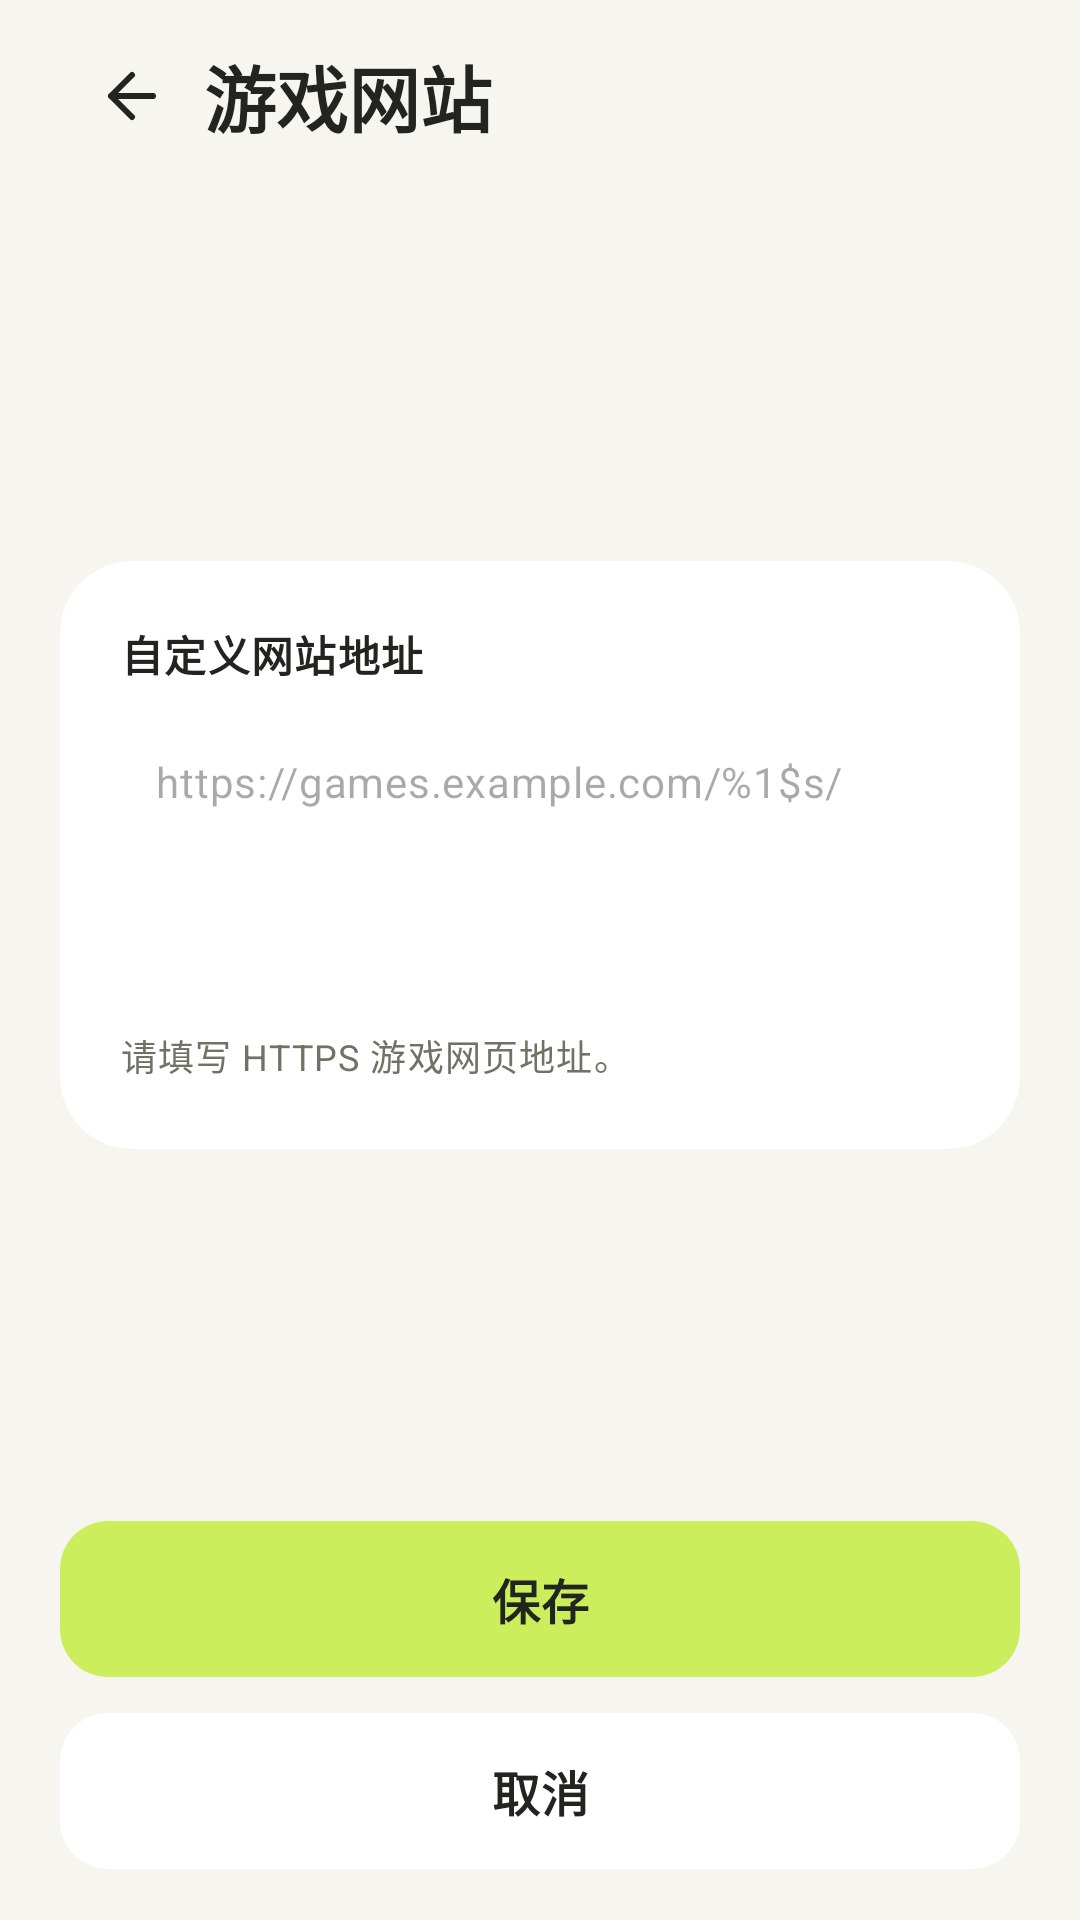

Where icons sit on this 1080 × 1920 app screen, as (x1, y1, x2, y2):
返回大厅: (108, 72, 156, 120)
